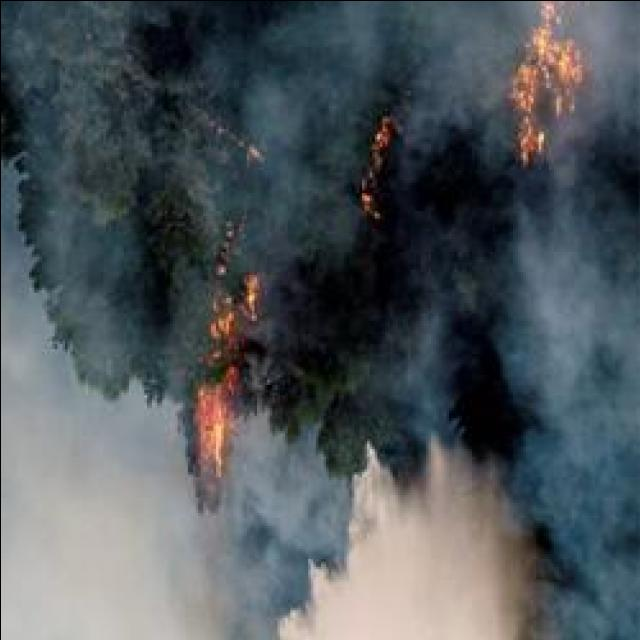fire: (512, 6, 584, 153), (199, 392, 224, 466)
smoke: (287, 484, 640, 640), (504, 175, 640, 526), (2, 517, 312, 637), (1, 358, 65, 638), (400, 0, 504, 164), (588, 0, 640, 125)
